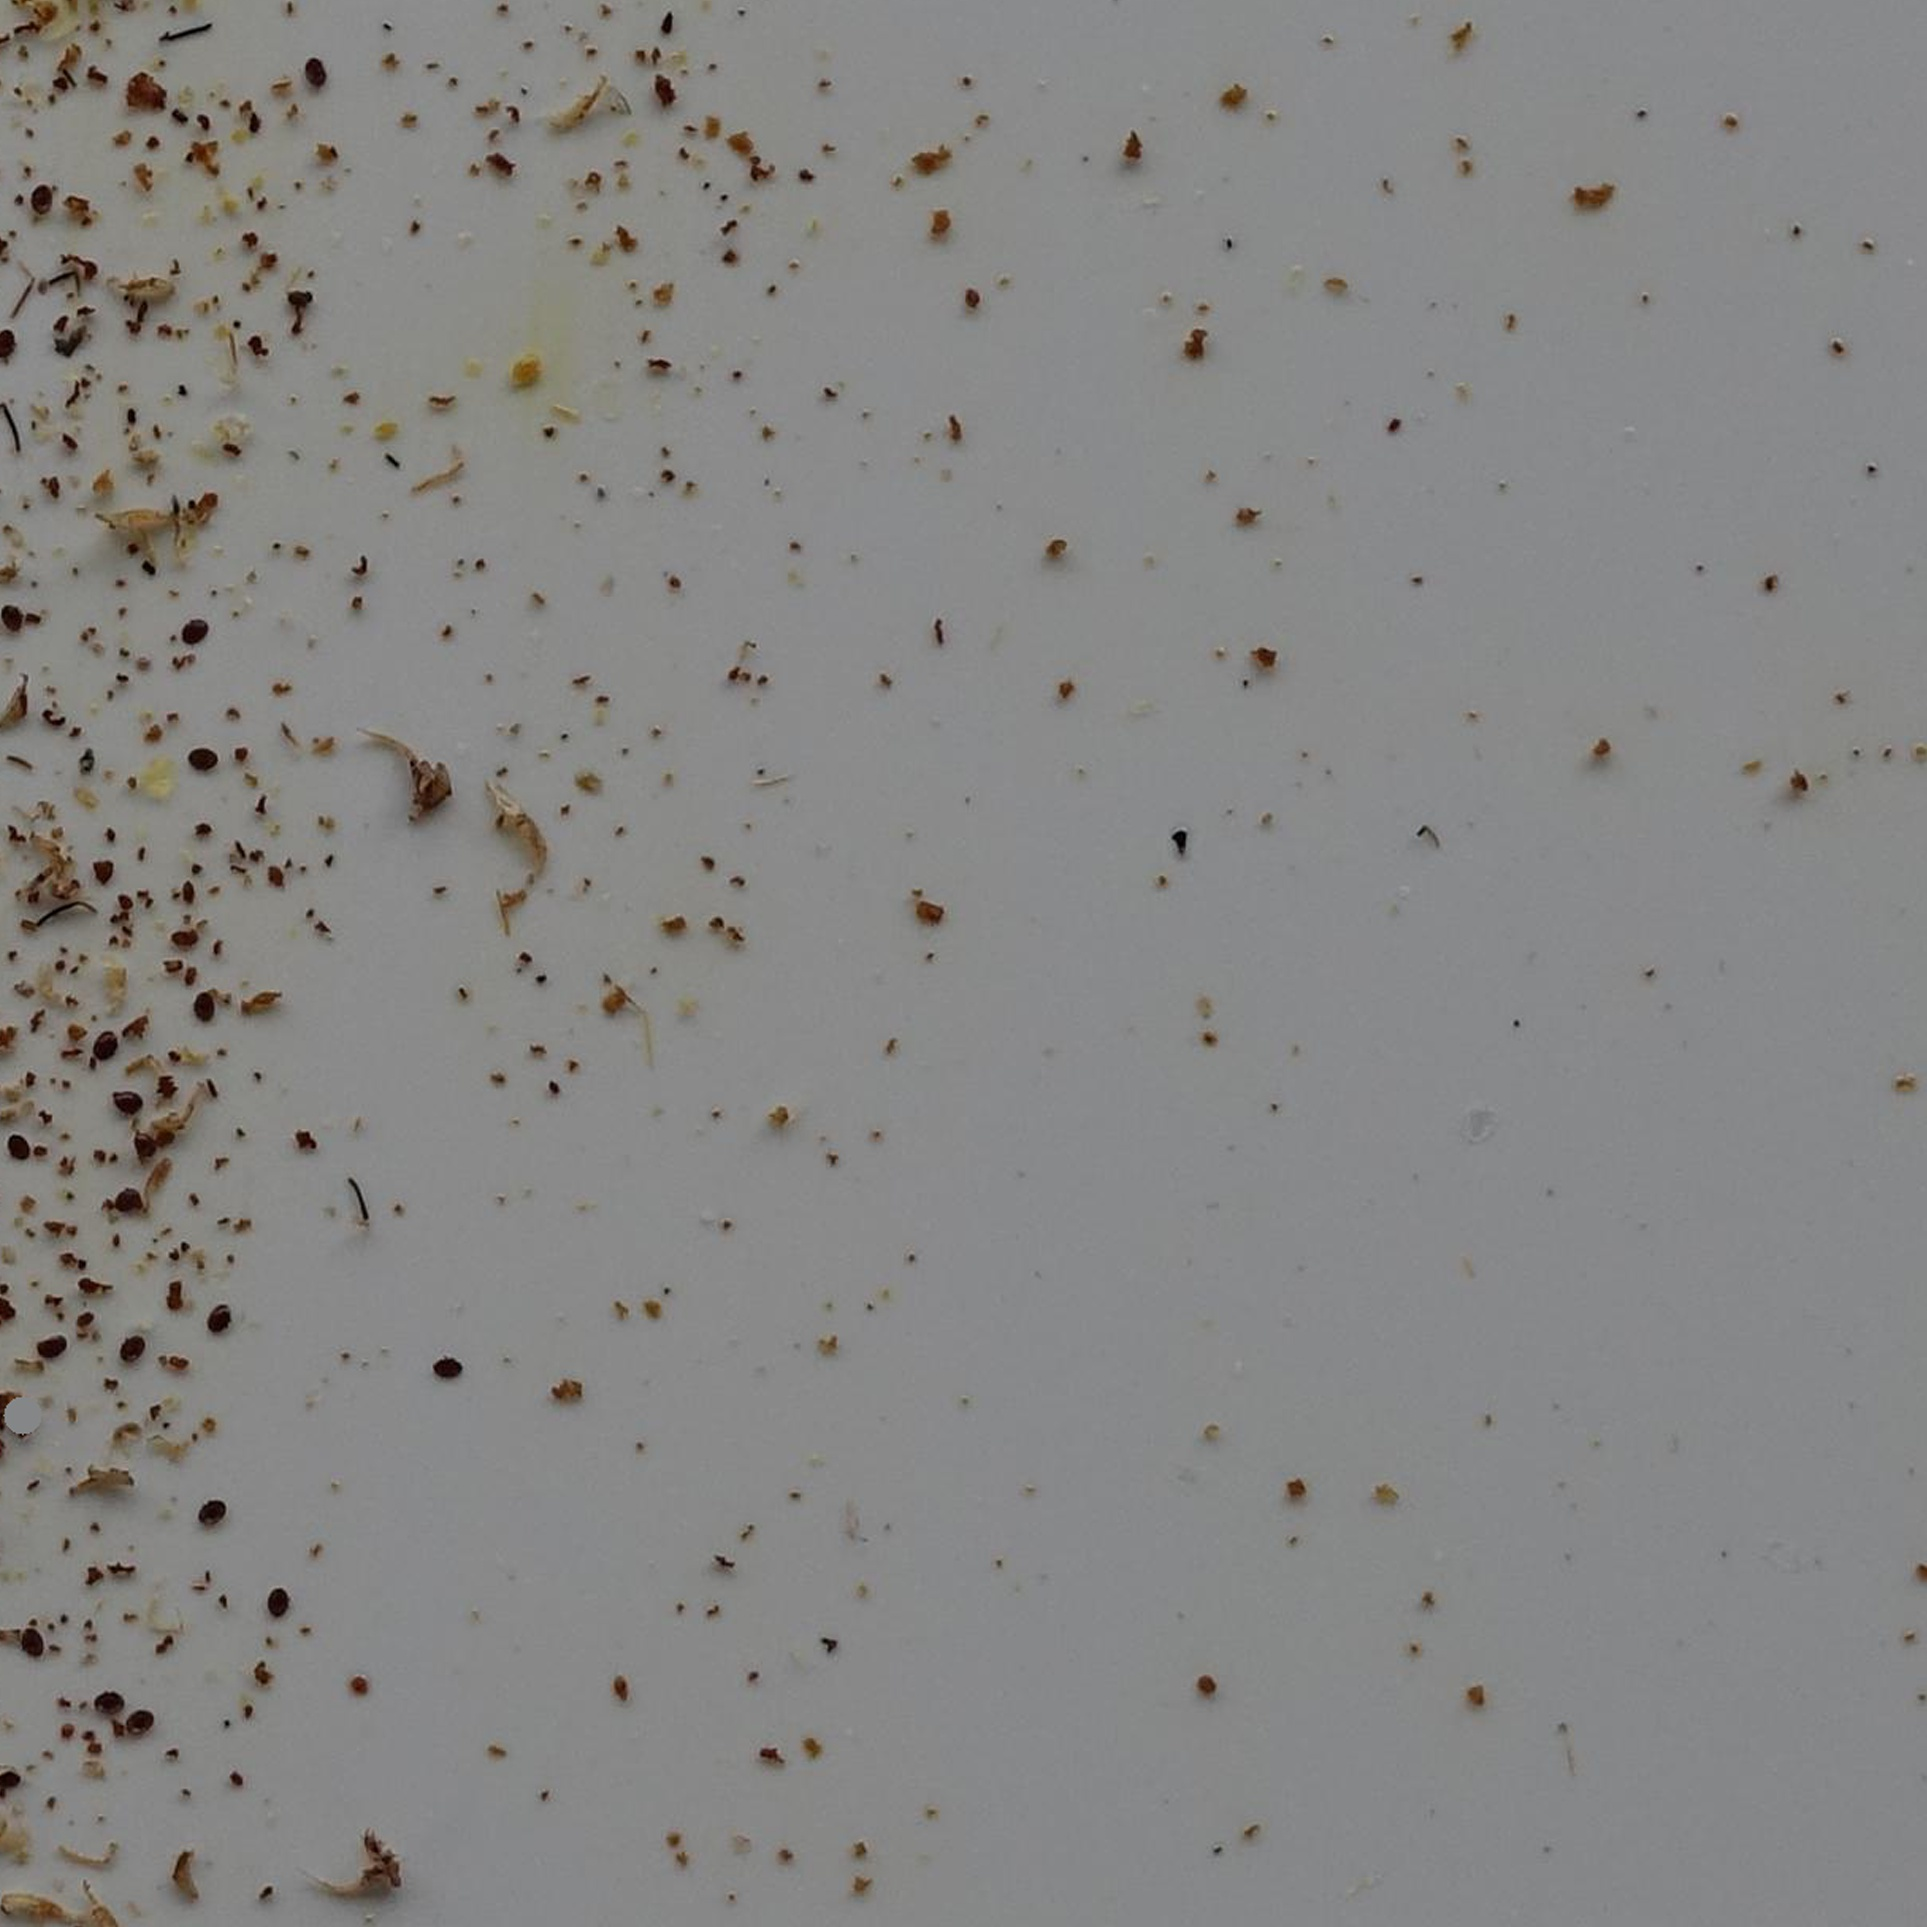Varroa: (122, 1124, 166, 1168), (35, 1325, 64, 1355), (115, 1182, 143, 1209), (28, 180, 55, 208), (99, 1032, 125, 1061), (99, 1689, 124, 1717), (4, 602, 28, 628), (436, 1353, 461, 1378), (184, 618, 208, 642), (206, 1306, 231, 1331), (129, 1706, 154, 1731), (122, 1336, 145, 1361), (192, 745, 215, 769), (192, 993, 215, 1018), (199, 1496, 222, 1521), (305, 60, 328, 85), (116, 1091, 139, 1115), (7, 1136, 30, 1161), (21, 1625, 42, 1648), (268, 1588, 289, 1609)
